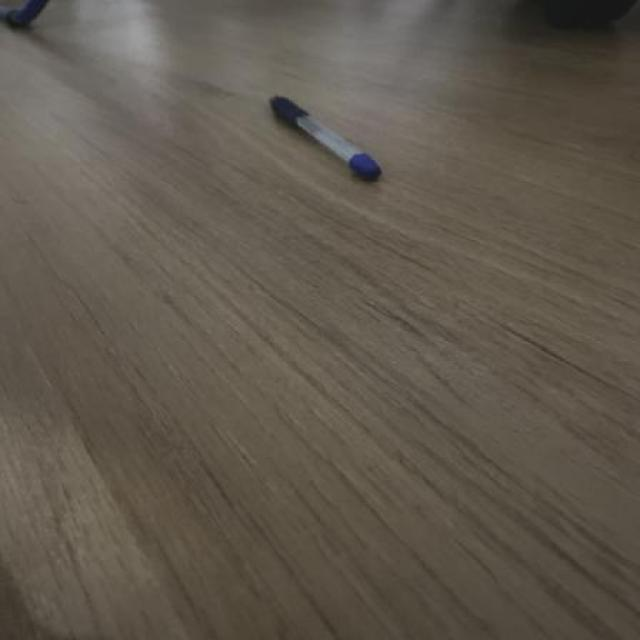pen: (266, 92, 385, 179)
